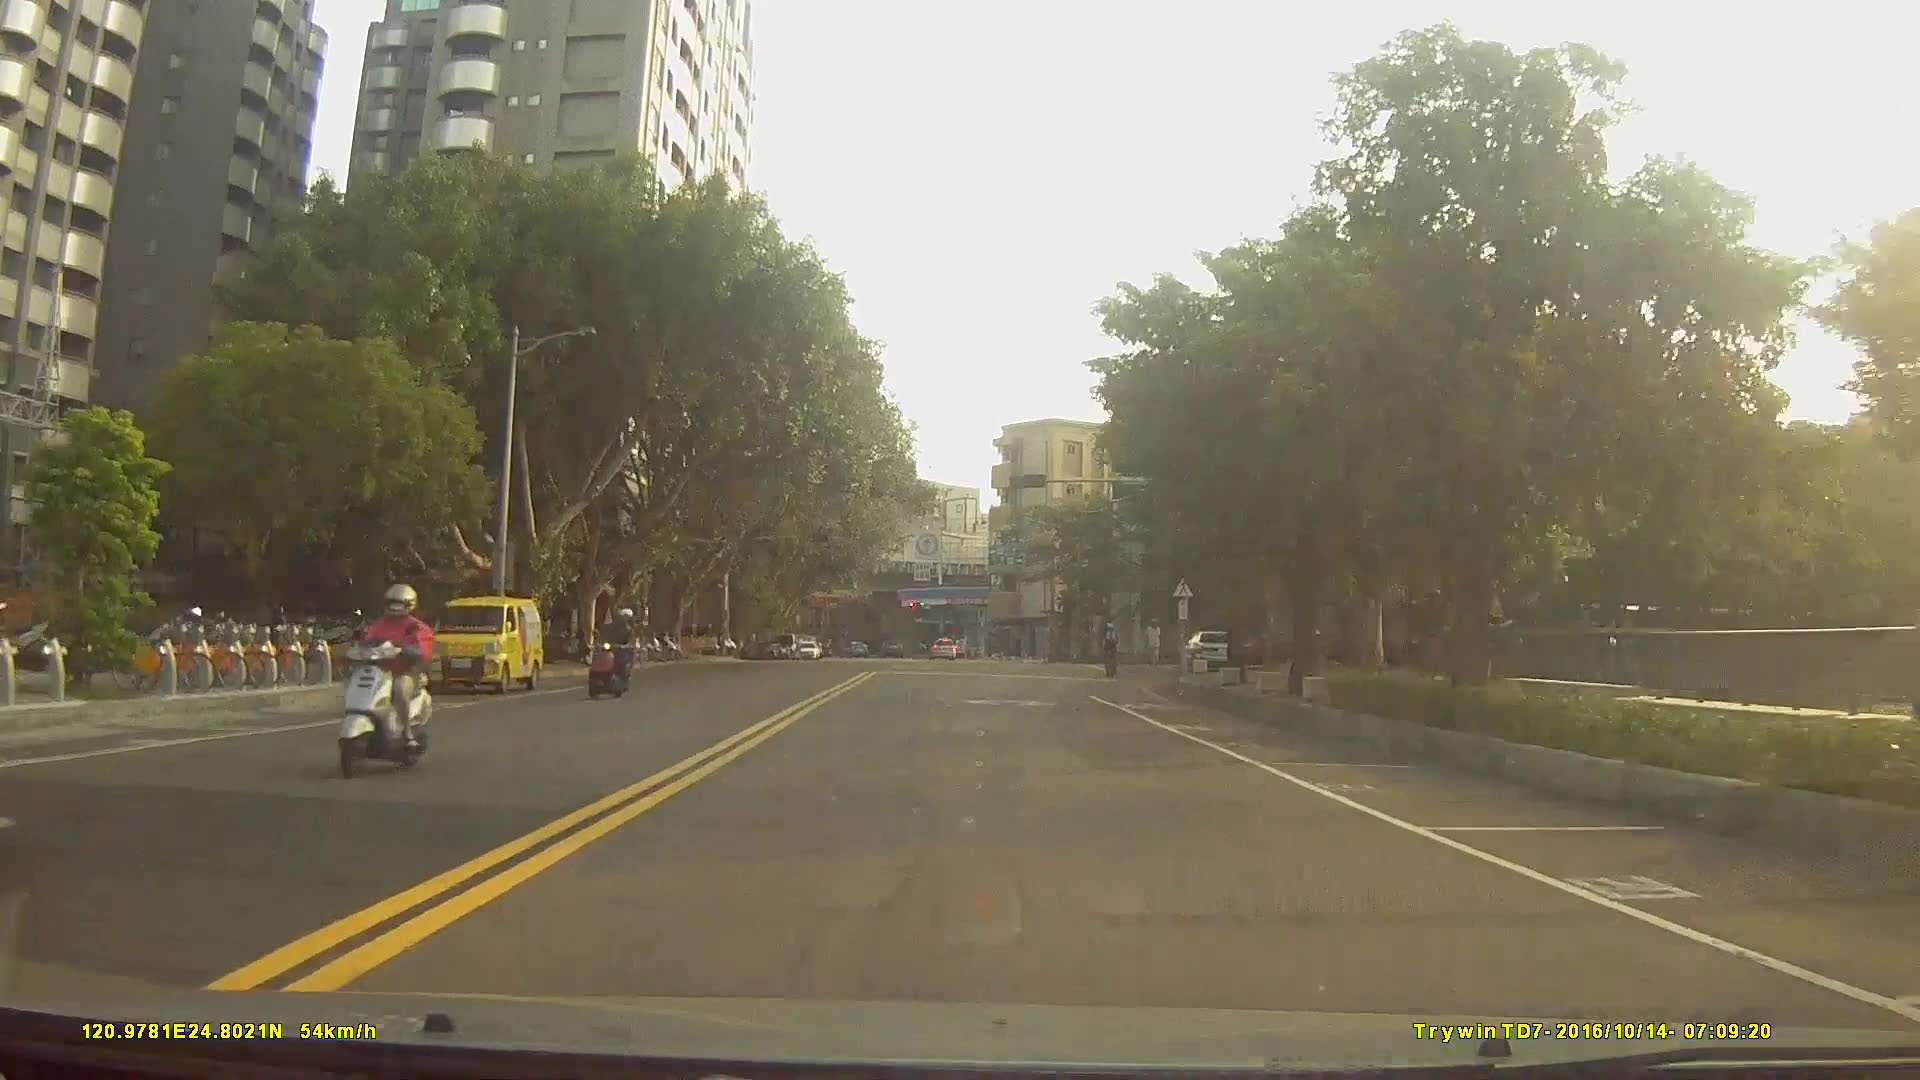pedestrian: (1143, 615, 1164, 670)
rider: (333, 582, 440, 776), (586, 605, 641, 700), (1102, 619, 1123, 679)
vehicle: (1177, 628, 1240, 669), (931, 637, 956, 660)
